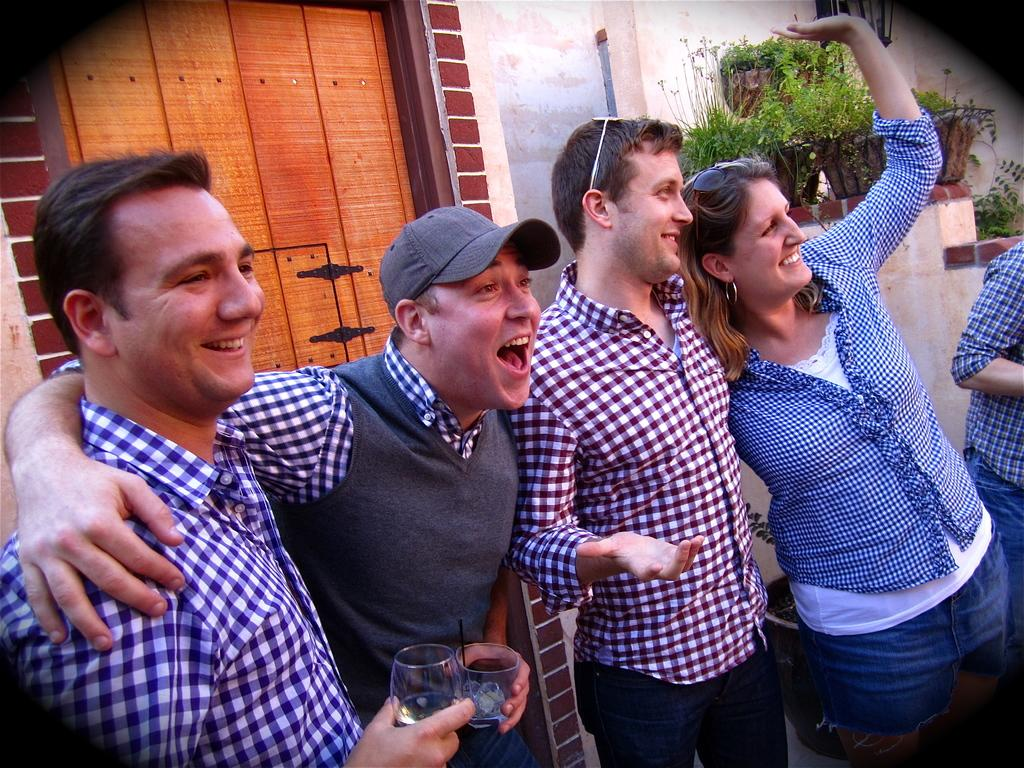Hat: (376, 202, 562, 316)
